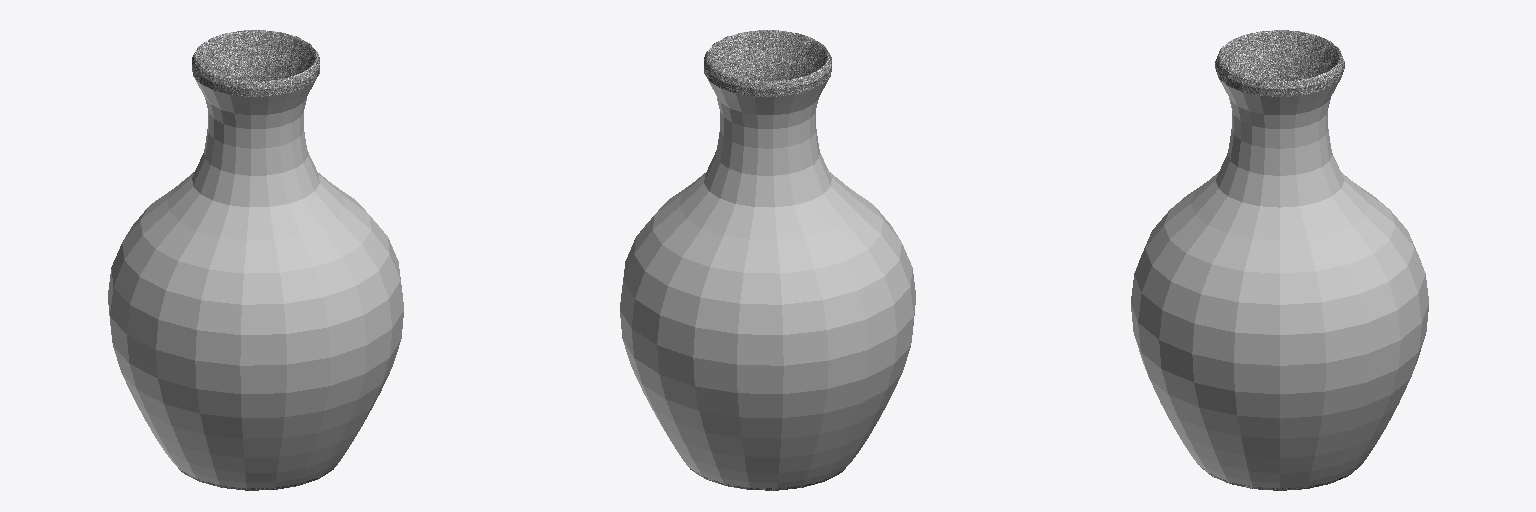
The picture shows the model from 3 angles: view 1: azimuth 30°, elevation 25°; view 2: azimuth 150°, elevation 25°; view 3: azimuth 270°, elevation 25°; orthographic projection.
Visible parts, largest first — view 1: Cylinder; view 2: Cylinder; view 3: Cylinder.
Part boxes in pixels (left/top/right/bottom): Cylinder: left=108, top=30, right=403, bottom=490; Cylinder: left=620, top=30, right=915, bottom=490; Cylinder: left=1131, top=30, right=1428, bottom=490.
Bounding box in the file's own units: 1.12 × 1.65 × 1.12.
2 materials, 1 textured.